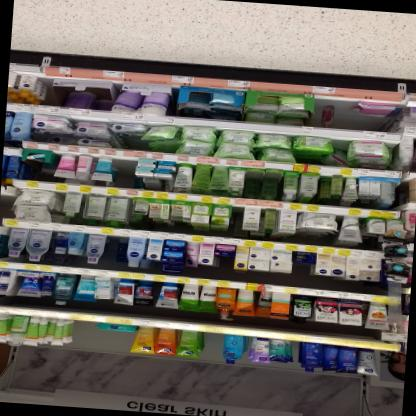empty_space: (115, 155, 136, 185), (77, 318, 97, 343), (207, 331, 225, 357), (0, 192, 6, 219)
